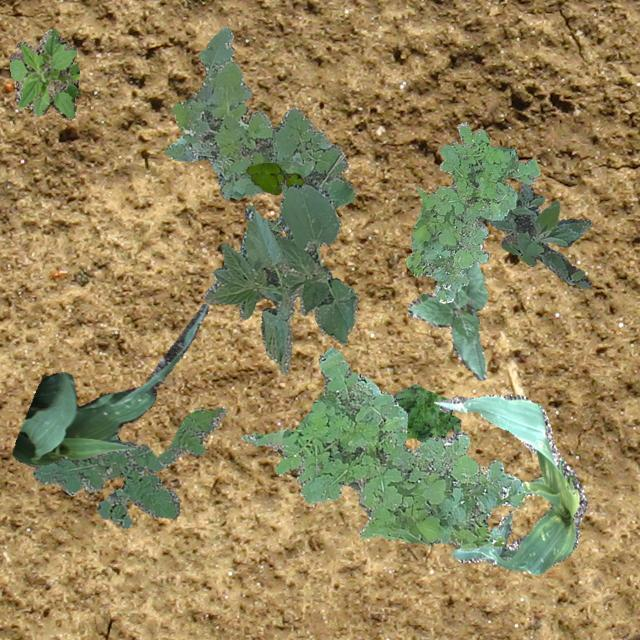crop: (11, 302, 208, 466), (202, 182, 358, 374), (433, 394, 587, 574), (406, 260, 486, 380)
weed: (240, 346, 524, 550), (166, 25, 354, 234), (404, 120, 538, 302), (32, 407, 225, 528), (477, 182, 591, 288), (7, 27, 80, 118), (392, 384, 459, 442), (246, 160, 306, 193)
